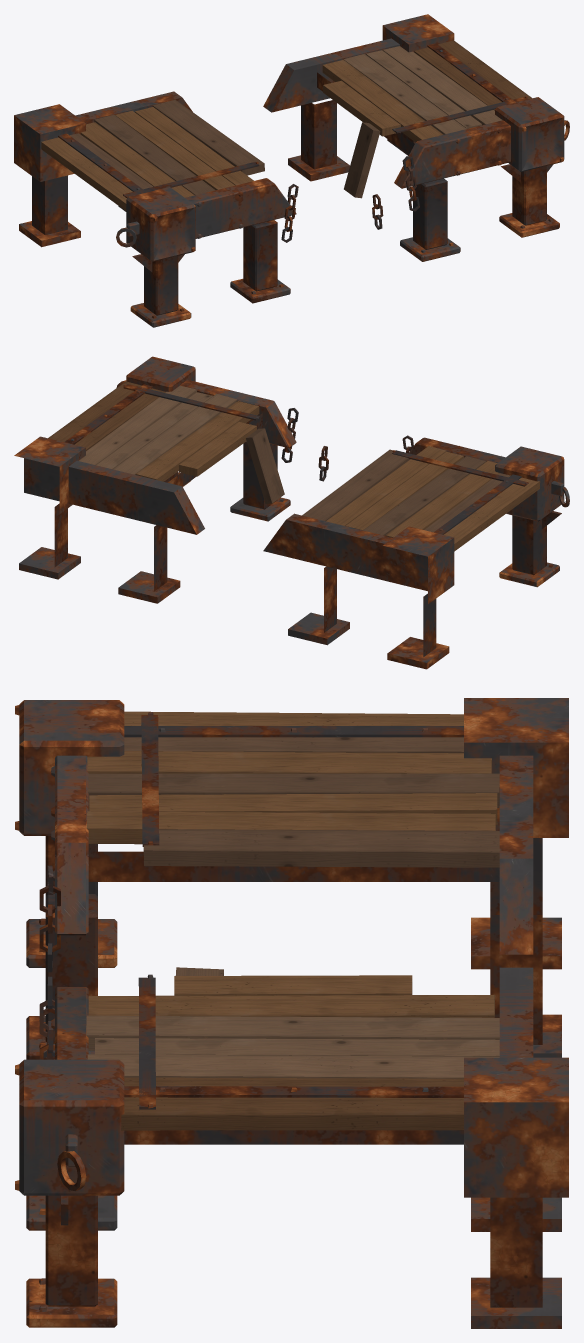
File: Platform_Gap.glb
The picture shows the model from 3 angles, top to bottom: view 1: azimuth 30°, elevation 25°; view 2: azimuth 150°, elevation 25°; view 3: azimuth 270°, elevation 25°; orthographic projection. The views are drawn at different scales.
Visible parts, largest first — view 1: Platform_Gap; view 2: Platform_Gap; view 3: Platform_Gap.
Part boxes in pixels (x1,y1,x2,y2): Platform_Gap: (14,14,569,327); Platform_Gap: (14,356,569,669); Platform_Gap: (15,698,568,1328).
Size of the model in its own units: 4.39 by 1.06 by 2.32.
Materials: 4 (4 with a texture image).
